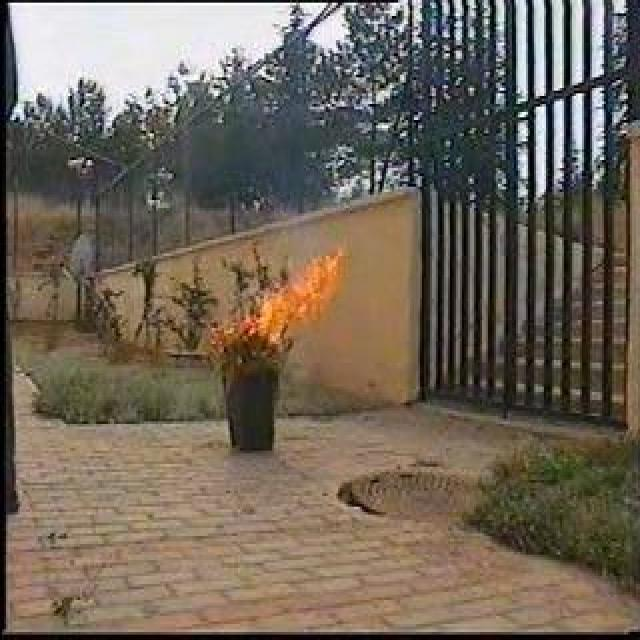fire: (230, 226, 344, 354)
